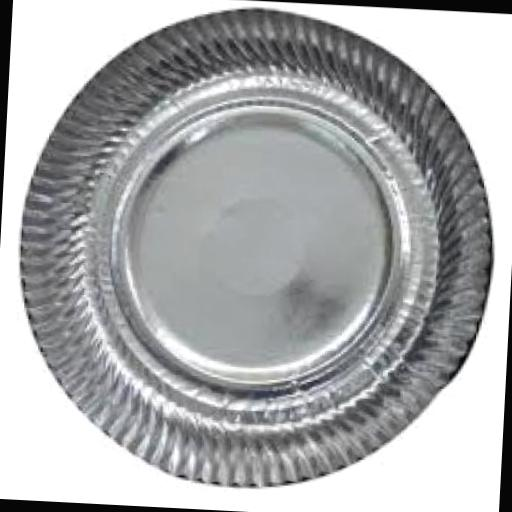metal: (7, 0, 501, 501)
